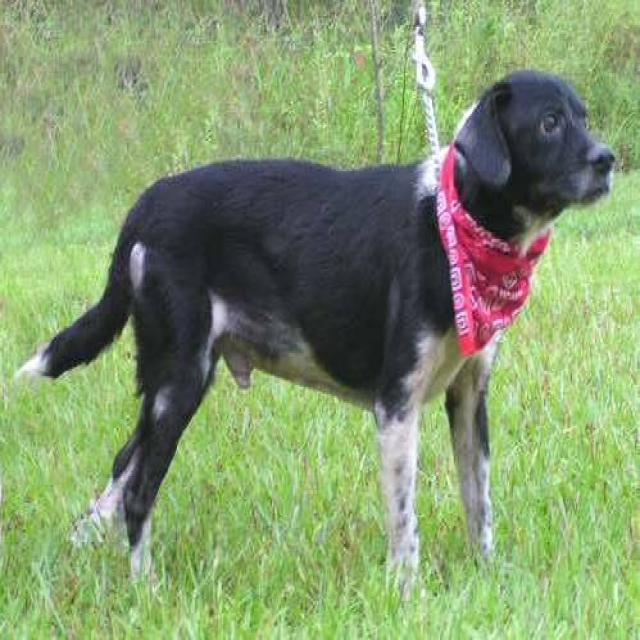dog: (21, 42, 618, 607)
